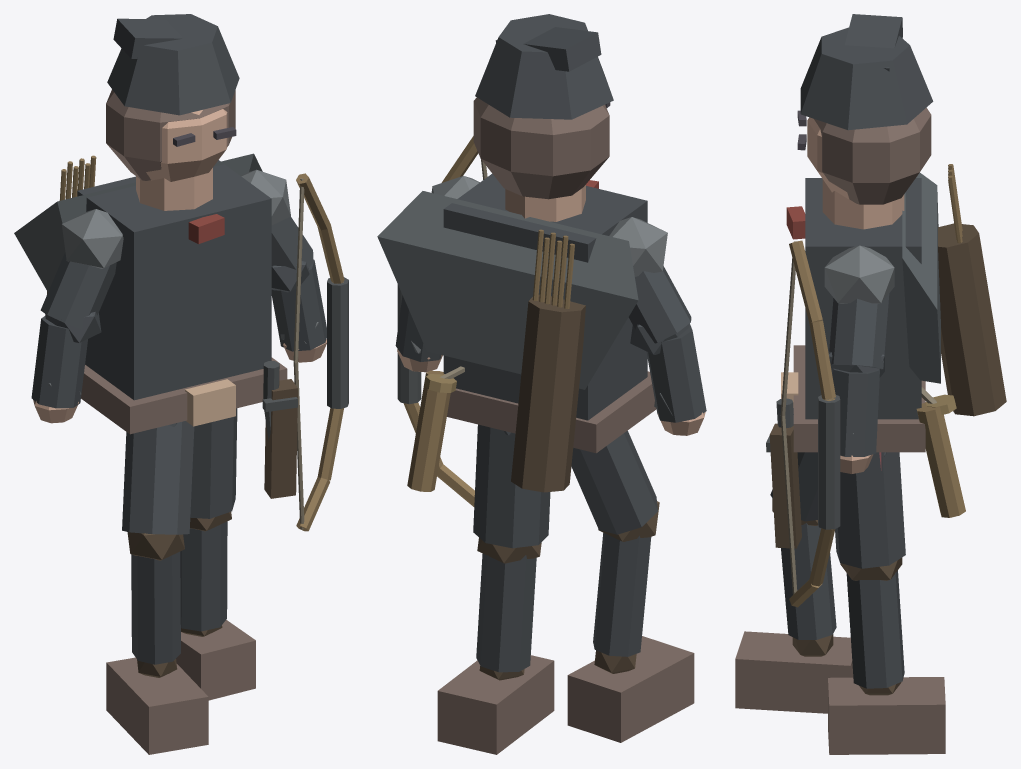
The model's file is chr_f1_scout_pixel_v003.glb.
3 renders of one model, left to right at view 1: azimuth 30°, elevation 25°; view 2: azimuth 150°, elevation 25°; view 3: azimuth 270°, elevation 25°, orthographic. The views are drawn at different scales.
Visible parts, largest first — view 1: CHR_F1_Scout_Torso, SCOUT_V002_SoftCap, CHR_F1_Scout_Boot_-1, CHR_F1_Scout_Thigh_-1, CHR_F1_Scout_Shin_-1, CHR_F1_Scout_Belt, CHR_F1_Scout_Shin_1, CHR_F1_Scout_Boot_1, CHR_F1_Scout_Hood, CHR_F1_Scout_Thigh_1, SCOUT_V002_ShortCape, CHR_F1_Scout_Forearm_-1 (+22 smaller); view 2: SCOUT_V002_ShortCape, CHR_F1_Scout_Torso, SCOUT_V002_CompactQuiver, CHR_F1_Scout_Hood, CHR_F1_Scout_Boot_-1, SCOUT_V002_SoftCap, CHR_F1_Scout_Boot_1, CHR_F1_Scout_Thigh_1, CHR_F1_Scout_Shin_1, CHR_F1_Scout_Thigh_-1, CHR_F1_Scout_Shin_-1, CHR_F1_Scout_Belt (+16 smaller); view 3: CHR_F1_Scout_Torso, SCOUT_V002_SoftCap, SCOUT_V002_CompactQuiver, CHR_F1_Scout_Boot_1, CHR_F1_Scout_Hood, CHR_F1_Scout_Boot_-1, CHR_F1_Scout_Thigh_1, SCOUT_V002_ShortCape, CHR_F1_Scout_Shin_1, CHR_F1_Scout_Shin_-1, CHR_F1_Scout_UpperArm_1, CHR_F1_Scout_Forearm_1 (+18 smaller).
Part boxes in pixels (<box>): CHR_F1_Scout_Torso: <box>77,160,271,400</box>; SCOUT_V002_SoftCap: <box>107,14,239,115</box>; CHR_F1_Scout_Boot_-1: <box>106,657,208,754</box>; CHR_F1_Scout_Thigh_-1: <box>122,421,194,534</box>; CHR_F1_Scout_Shin_-1: <box>131,551,180,664</box>; CHR_F1_Scout_Belt: <box>81,357,287,434</box>; CHR_F1_Scout_Shin_1: <box>180,521,227,631</box>; CHR_F1_Scout_Boot_1: <box>176,619,255,700</box>; CHR_F1_Scout_Hood: <box>106,89,235,180</box>; CHR_F1_Scout_Thigh_1: <box>190,408,237,518</box>; SCOUT_V002_ShortCape: <box>14,153,262,291</box>; CHR_F1_Scout_Forearm_-1: <box>31,316,87,408</box>; SCOUT_V002_ShortCape: <box>377,191,638,389</box>; CHR_F1_Scout_Torso: <box>443,173,647,420</box>; SCOUT_V002_CompactQuiver: <box>511,294,585,492</box>; CHR_F1_Scout_Hood: <box>473,97,609,199</box>; CHR_F1_Scout_Boot_-1: <box>567,636,694,742</box>; SCOUT_V002_SoftCap: <box>475,14,613,119</box>; CHR_F1_Scout_Boot_1: <box>437,655,554,754</box>; CHR_F1_Scout_Thigh_1: <box>473,424,550,548</box>; CHR_F1_Scout_Shin_1: <box>476,554,536,672</box>; CHR_F1_Scout_Thigh_-1: <box>571,430,657,534</box>; CHR_F1_Scout_Shin_-1: <box>593,533,651,656</box>; CHR_F1_Scout_Belt: <box>447,371,656,453</box>; CHR_F1_Scout_Torso: <box>805,178,921,419</box>; SCOUT_V002_SoftCap: <box>800,27,933,130</box>; SCOUT_V002_CompactQuiver: <box>938,223,1006,416</box>; CHR_F1_Scout_Boot_1: <box>828,677,945,754</box>; CHR_F1_Scout_Hood: <box>814,108,931,204</box>; CHR_F1_Scout_Boot_-1: <box>735,631,853,713</box>; CHR_F1_Scout_Thigh_1: <box>835,452,905,568</box>; SCOUT_V002_ShortCape: <box>902,172,940,383</box>; CHR_F1_Scout_Shin_1: <box>846,570,904,688</box>; CHR_F1_Scout_Shin_-1: <box>781,523,836,639</box>; CHR_F1_Scout_UpperArm_1: <box>829,293,889,369</box>; CHR_F1_Scout_Forearm_1: <box>832,368,879,456</box>.
Bounding box in the file's own units: 0.9204 × 1.95 × 0.6993.
